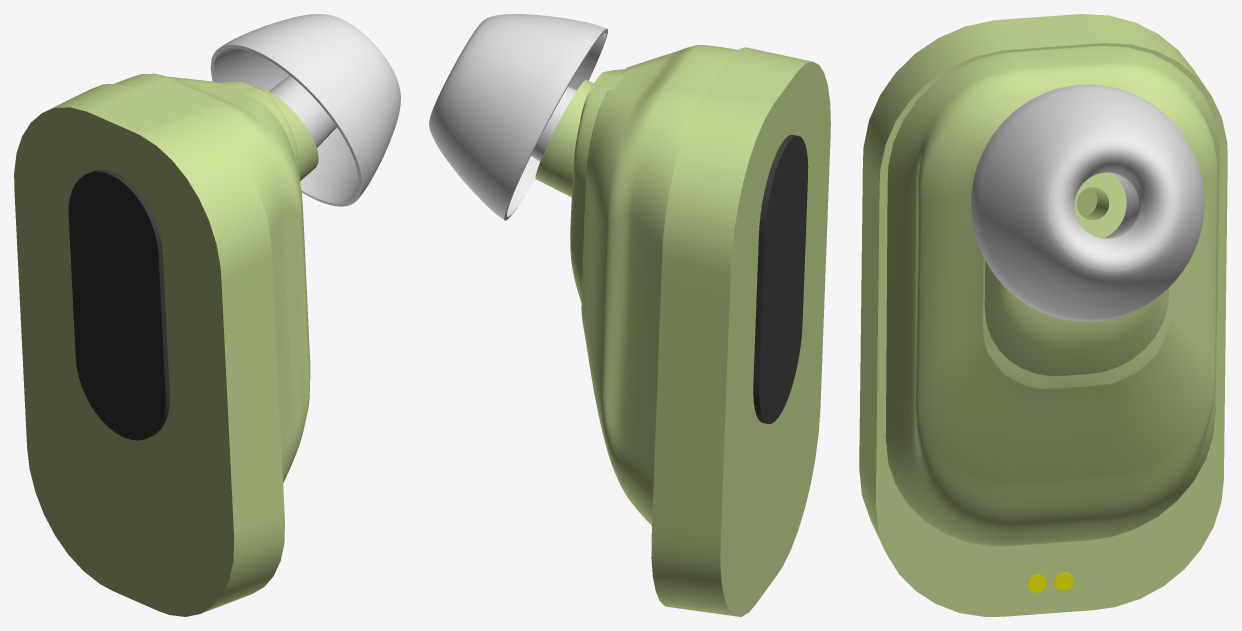
Rendered from earbuds-gltf.gltf.
3 views of the same model, side by side, from view 1: azimuth 30°, elevation 25°; view 2: azimuth 150°, elevation 25°; view 3: azimuth 270°, elevation 25° (orthographic). The views are drawn at different scales.
Parts seen in each view (by area): view 1: Loft1, Loft, Buds, Loft_3, Tube_2; view 2: Loft1, Loft_3, Buds, Loft, Tube_2; view 3: Loft_3, Loft1, Buds, Tube1_1.
Boxes of the visible parts, <box> form: Loft1: <box>14,83,284,616</box>; Loft: <box>68,170,169,440</box>; Buds: <box>210,14,400,206</box>; Loft_3: <box>114,73,310,483</box>; Tube_2: <box>253,86,318,180</box>; Loft1: <box>651,47,830,616</box>; Loft_3: <box>570,45,737,525</box>; Buds: <box>429,14,607,220</box>; Loft: <box>753,135,808,423</box>; Tube_2: <box>535,79,593,197</box>; Loft_3: <box>885,46,1219,546</box>; Loft1: <box>859,14,1227,616</box>; Buds: <box>971,84,1204,321</box>; Tube1_1: <box>1074,172,1126,238</box>.
Size of the model in its own units: 0.8704 by 1.31 by 0.745.
